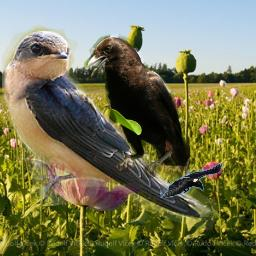Crow: (84, 34, 190, 178), (160, 162, 223, 198)
Swallow: (2, 19, 222, 230)
